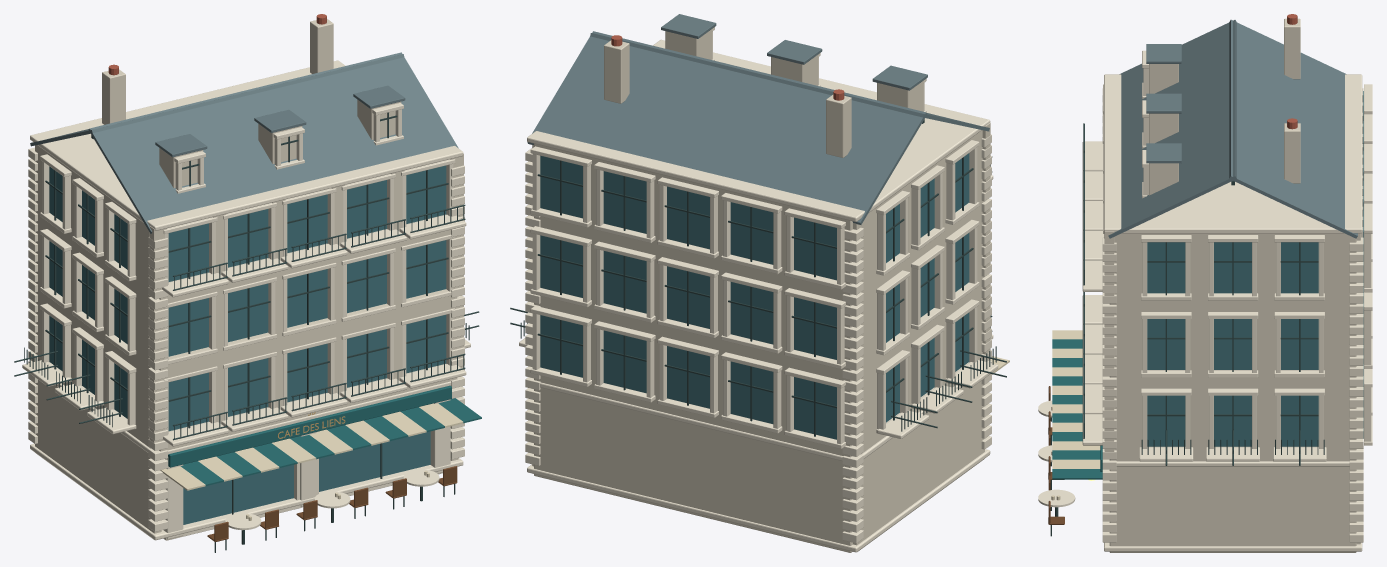
The model's file is Cafe.glb.
3 views of the same model, side by side, from view 1: azimuth 30°, elevation 25°; view 2: azimuth 150°, elevation 25°; view 3: azimuth 270°, elevation 25° (orthographic). The views are drawn at different scales.
Visible parts, largest first — view 1: Cafe_Carved ivory, Cafe_Window blue, Cafe_Paris limestone, Cafe_Zinc slate, Cafe_Forged midnight, Cafe_3B petrol, Cafe_Canvas ivory, Cafe_Walnut; view 2: Cafe_Carved ivory, Cafe_Paris limestone, Cafe_Zinc slate, Cafe_Window blue, Cafe_Forged midnight; view 3: Cafe_Paris limestone, Cafe_Carved ivory, Cafe_Zinc slate, Cafe_Window blue, Cafe_Forged midnight, Cafe_3B petrol, Cafe_Canvas ivory, Cafe_Walnut.
Part boxes in pixels (x1,y1,x2,y2): Cafe_Carved ivory: (22,60,470,540); Cafe_Window blue: (49,165,446,524); Cafe_Paris limestone: (35,19,463,539); Cafe_Zinc slate: (30,52,458,233); Cafe_Forged midnight: (14,112,479,552); Cafe_3B petrol: (168,385,481,485); Cafe_Canvas ivory: (160,403,463,520); Cafe_Walnut: (207,466,457,541); Cafe_Carved ivory: (519,27,998,552); Cafe_Paris limestone: (532,29,990,552); Cafe_Zinc slate: (527,14,989,224); Cafe_Window blue: (540,153,969,439); Cafe_Forged midnight: (510,119,1006,436); Cafe_Paris limestone: (1104,18,1360,552); Cafe_Carved ivory: (1038,50,1372,551); Cafe_Zinc slate: (1108,19,1357,238); Cafe_Window blue: (1147,91,1363,446); Cafe_Forged midnight: (1050,123,1324,536); Cafe_3B petrol: (1052,339,1102,479); Cafe_Canvas ivory: (1051,330,1100,500); Cafe_Walnut: (1048,386,1064,524).
Size of the model in its own units: 26.91 by 25.62 by 18.97.
